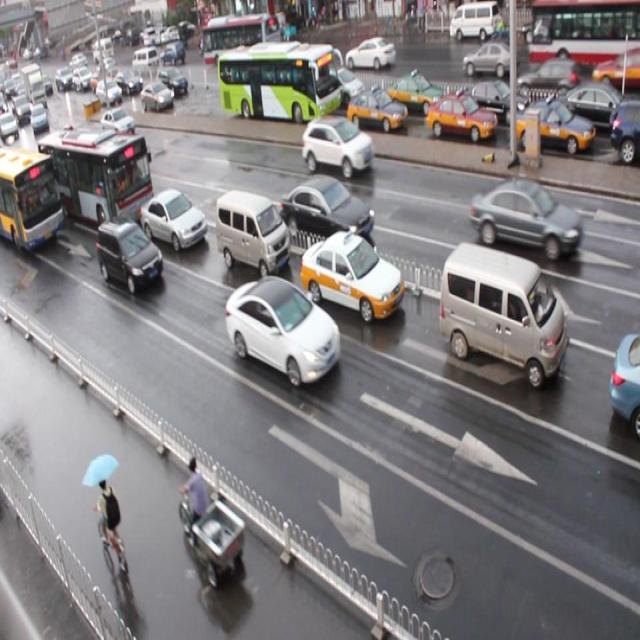car: (225, 272, 340, 391), (472, 177, 584, 265), (300, 229, 403, 321), (279, 173, 374, 250), (98, 216, 164, 296), (548, 83, 640, 136), (514, 101, 594, 160), (302, 115, 373, 178), (140, 188, 208, 252), (426, 91, 498, 145), (608, 330, 640, 433), (462, 79, 529, 127), (345, 88, 407, 134), (384, 71, 446, 115), (321, 65, 368, 107), (610, 100, 640, 161), (22, 160, 61, 204), (101, 106, 137, 138), (141, 81, 174, 111), (158, 68, 188, 97), (111, 70, 143, 96)
truck: (439, 240, 568, 389), (214, 186, 290, 282), (73, 127, 116, 169)
van: (38, 127, 154, 235), (216, 41, 339, 125), (0, 146, 64, 255)
